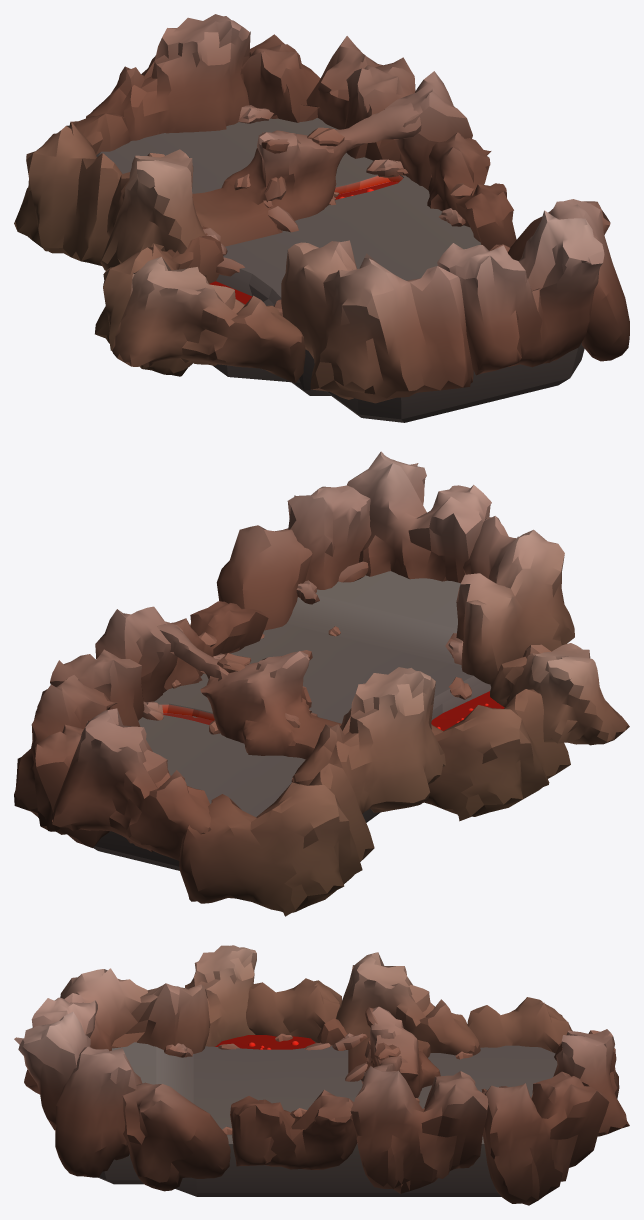
Rendered from LocationBlockout1.fbx.
3 views of the same model, one above another, from view 1: azimuth 30°, elevation 25°; view 2: azimuth 150°, elevation 25°; view 3: azimuth 270°, elevation 25° (orthographic). The views are drawn at different scales.
Parts seen in each view (by area): view 1: Terrain; view 2: Terrain; view 3: Terrain.
Boxes of the visible parts, x1,y1,x2,y2 form: Terrain: (14, 14, 629, 422); Terrain: (14, 451, 629, 916); Terrain: (14, 945, 629, 1205).
Size of the model in its own units: 6076 by 2625 by 8743.
1 material, 1 textured.
